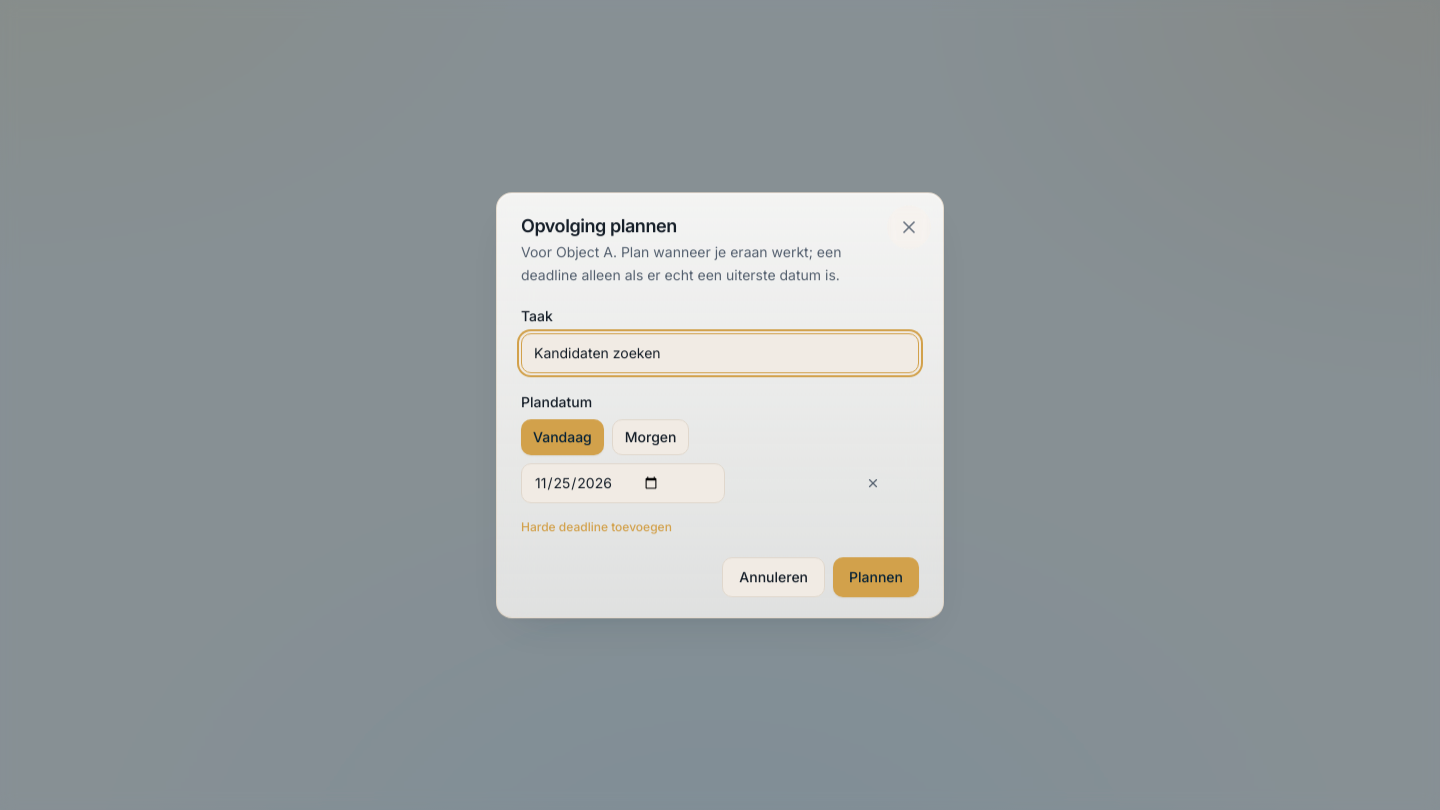
OpvolgingPlannenDialog › na opslaan met mislukt vernieuwen zijn alle invoervelden vergrendeld en heet de knop Opnieuw laden
The image size is (1440, 810).
Later steps or results of the test are not shown.
Click the button "Harde deadline toevoegen" at (596, 527), box [521,519,672,535]
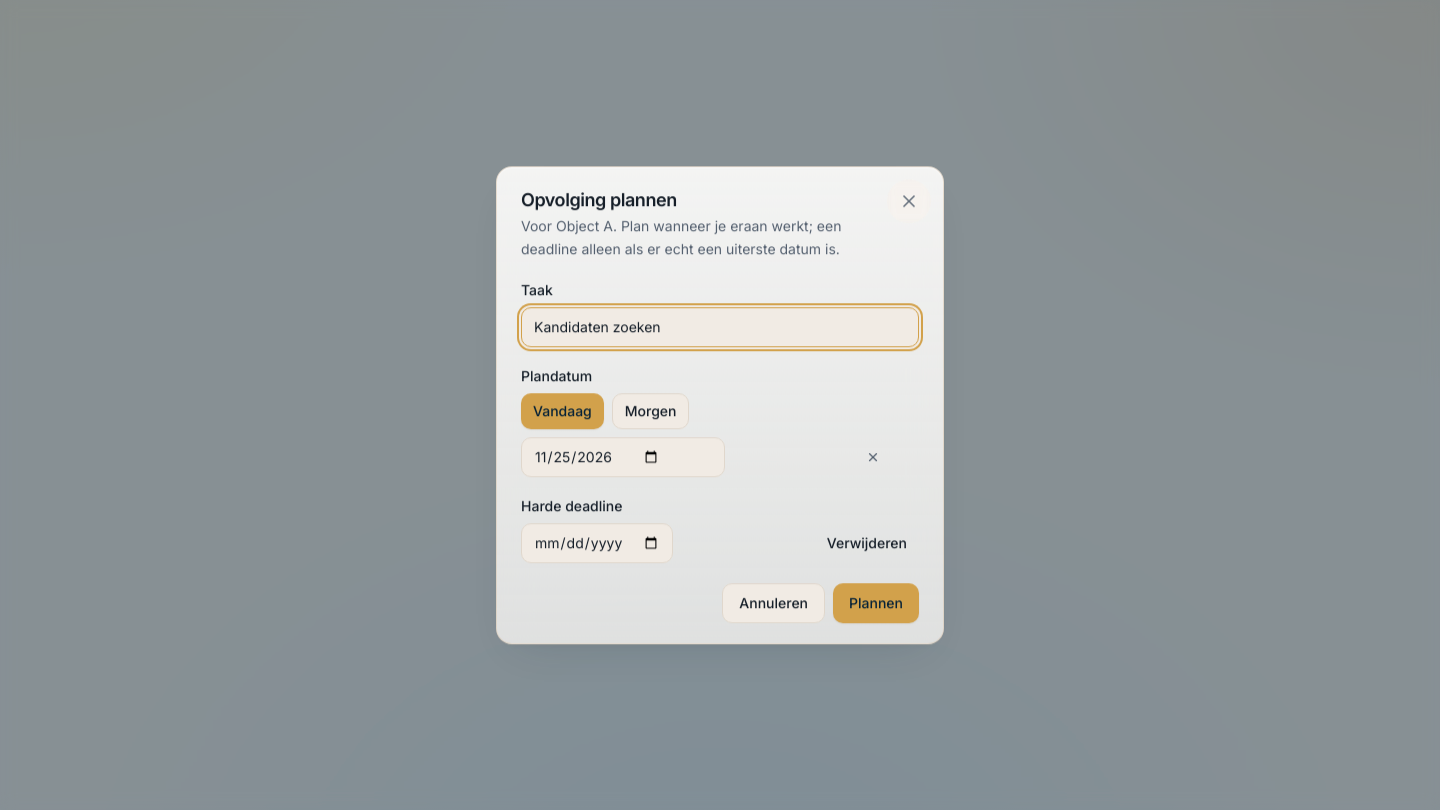
Type "2026-12-01" into the date field labelled "Harde deadline" at (597, 543), box [521,523,673,563]
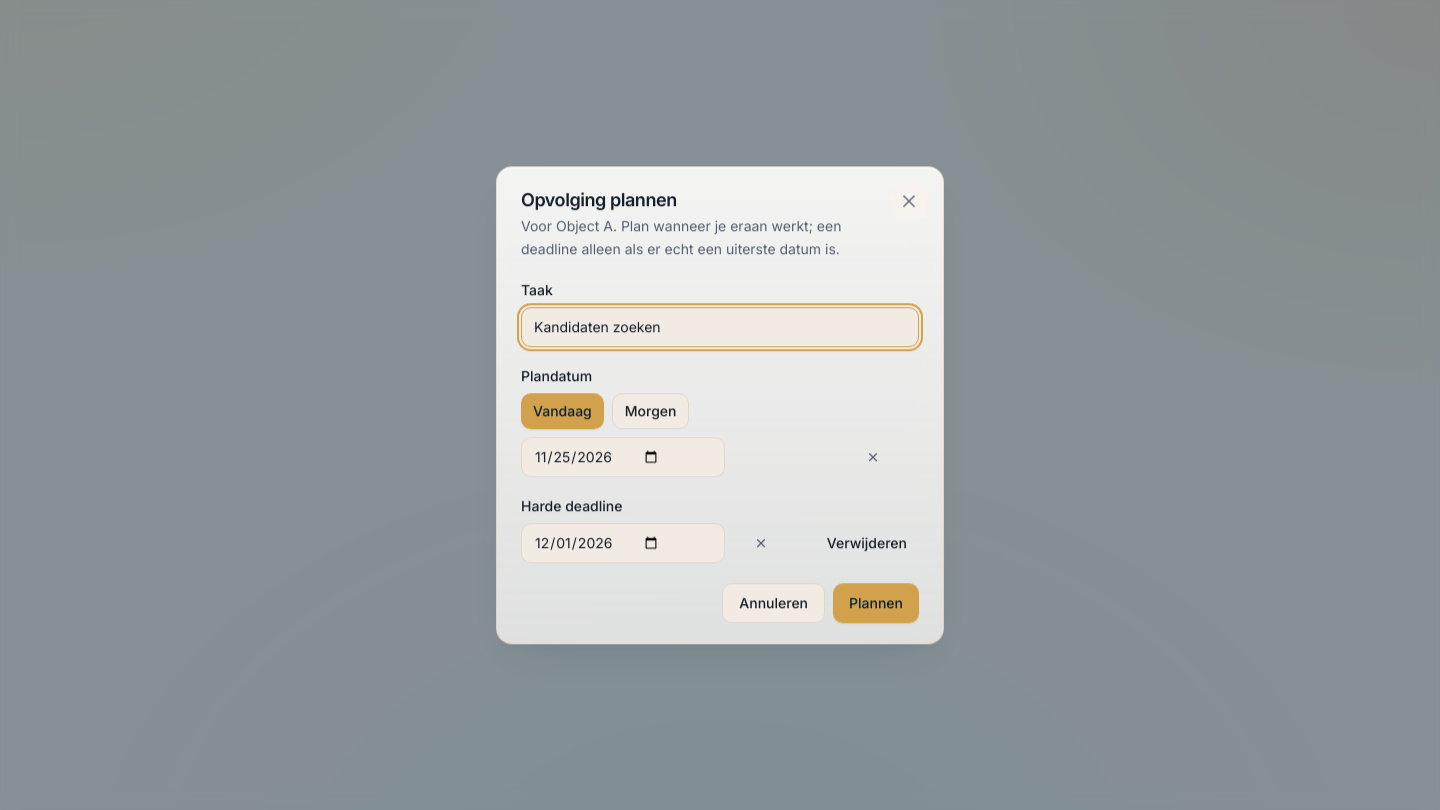
Click the button "Plannen" at (876, 603), box [833,583,919,623]
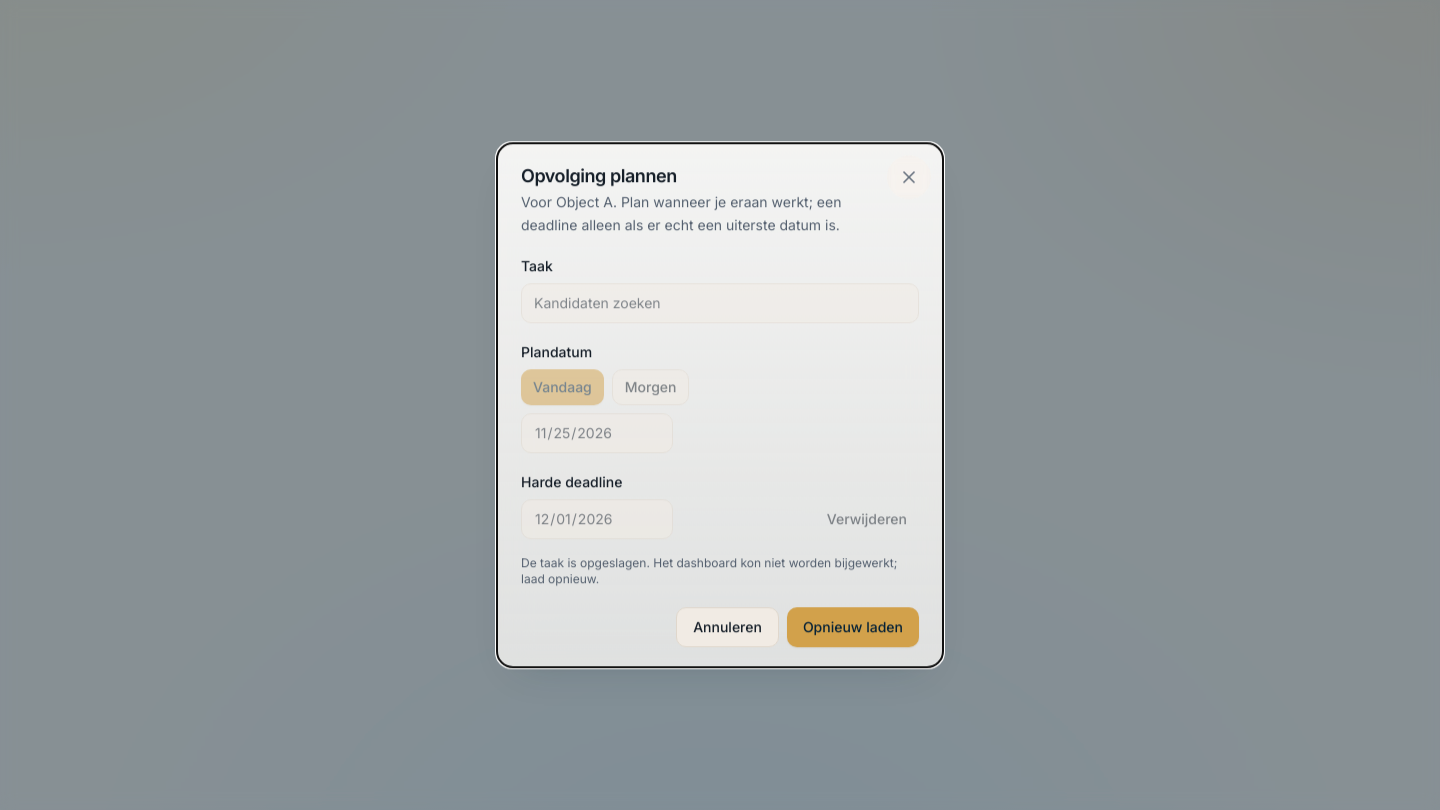
Expected: the text with test id "opvolging-opgeslagen" is shown, [521,555,919,587]
Expected: the field labelled "Taak" is disabled, [521,283,919,323]
Expected: the date field labelled "Plandatum" is disabled, [521,413,673,453]
